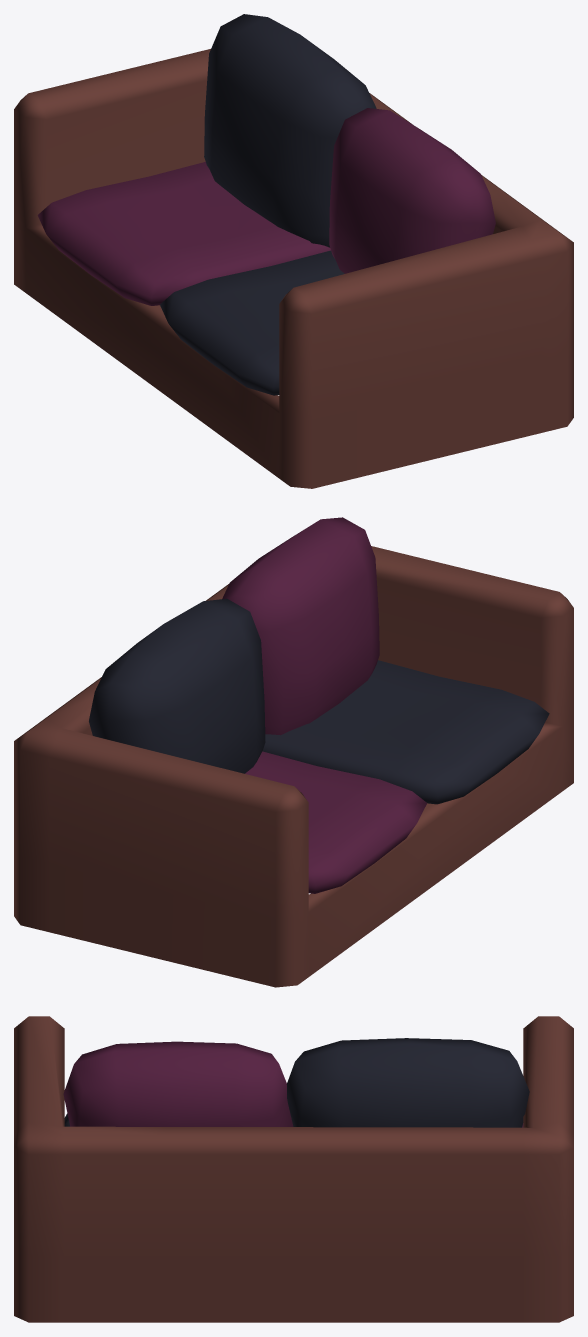
The model's file is sofa_2.fbx.
The picture shows the model from 3 angles, top to bottom: view 1: azimuth 30°, elevation 25°; view 2: azimuth 150°, elevation 25°; view 3: azimuth 270°, elevation 25°; orthographic projection. The views are drawn at different scales.
Visible parts, largest first — view 1: Cube; view 2: Cube; view 3: Cube.
Part boxes in pixels (x1,y1,x2,y2): Cube: (14,14,573,488); Cube: (14,517,573,987); Cube: (14,1016,573,1322).
Bounding box in the file's own units: 186 × 154 × 320.
